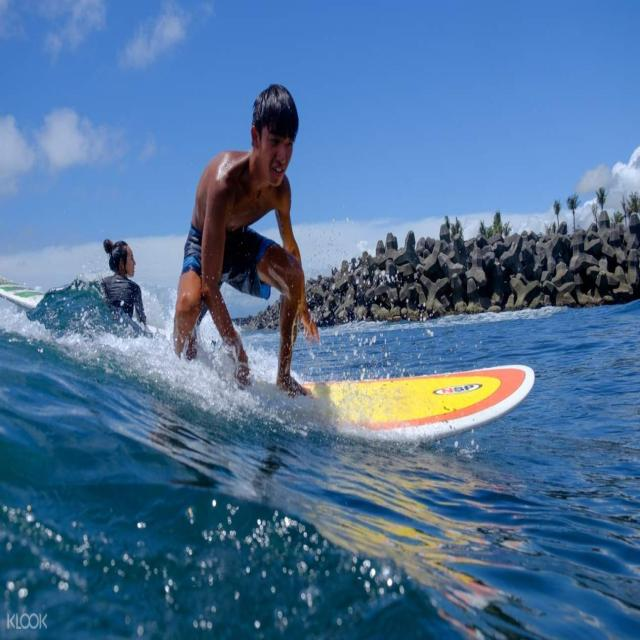sit: (170, 51, 320, 384)
